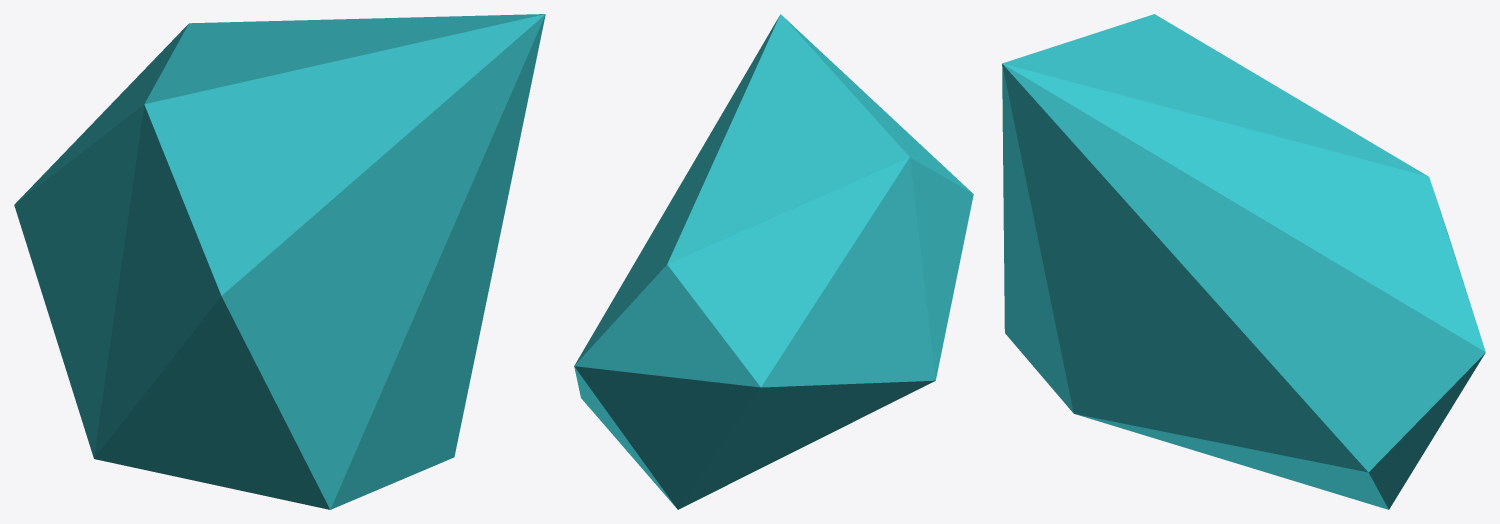
Rendered from obs3.fbx.
The picture shows the model from 3 angles, left to right: view 1: azimuth 30°, elevation 25°; view 2: azimuth 150°, elevation 25°; view 3: azimuth 270°, elevation 25°; orthographic projection. The views are drawn at different scales.
Parts seen in each view (by area): view 1: Icosphere; view 2: Icosphere; view 3: Icosphere.
Part boxes in pixels (x1,y1,x2,y2): Icosphere: (14, 14, 545, 509); Icosphere: (574, 14, 973, 509); Icosphere: (1002, 14, 1485, 509).
Size of the model in its own units: 223 by 291 by 268.
